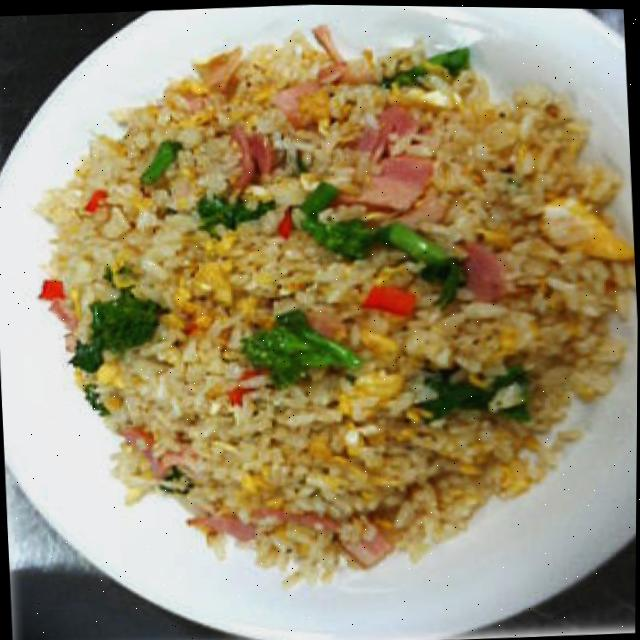米饭主食: (68, 24, 622, 562)
